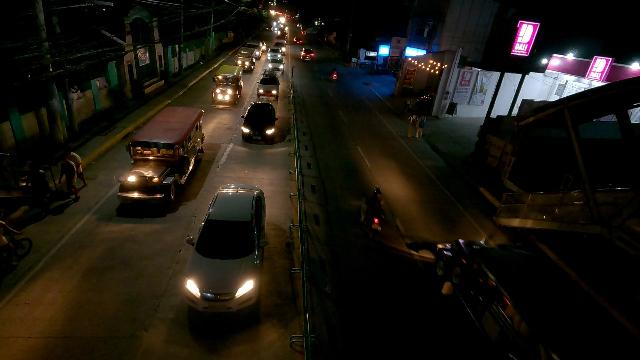car: (181, 183, 268, 313), (239, 101, 278, 144), (257, 74, 280, 99), (268, 56, 285, 74), (245, 42, 262, 58), (267, 47, 284, 60), (300, 47, 314, 62), (272, 41, 286, 52)
jeepney: (114, 105, 207, 207), (211, 65, 243, 104), (235, 46, 256, 71)
motorcycle: (364, 189, 385, 237), (331, 67, 338, 81)
